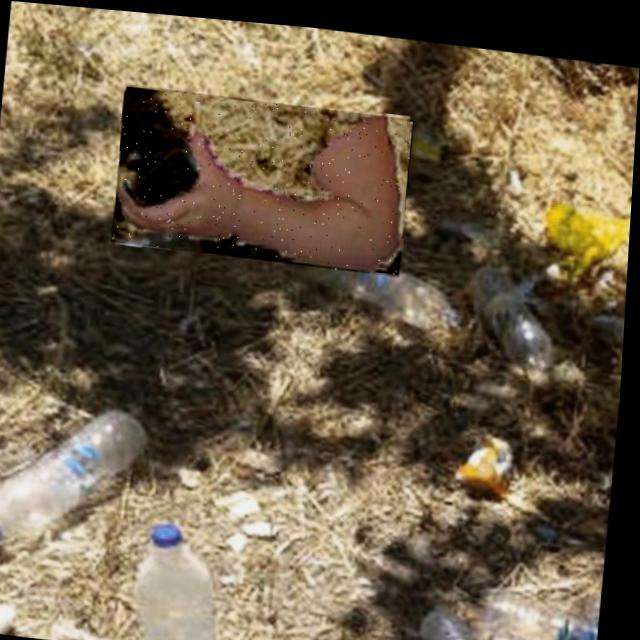Person in Rubble: (113, 81, 415, 269)
